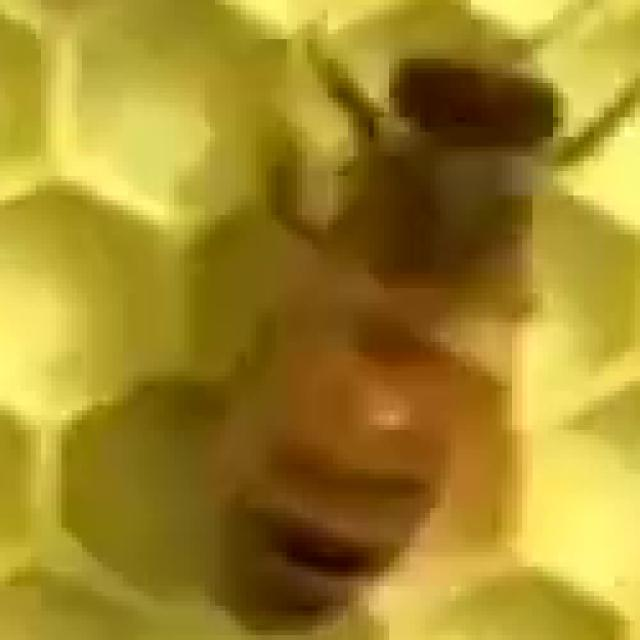honeybee: (209, 51, 561, 603)
